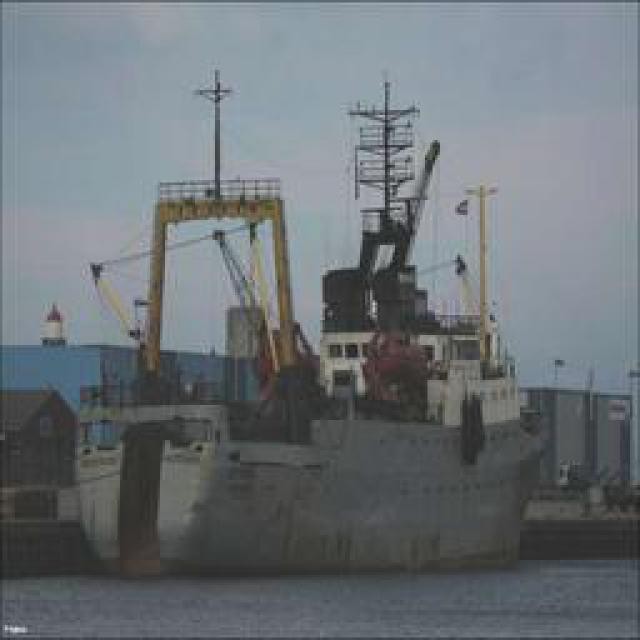Ship: (81, 58, 539, 583)
